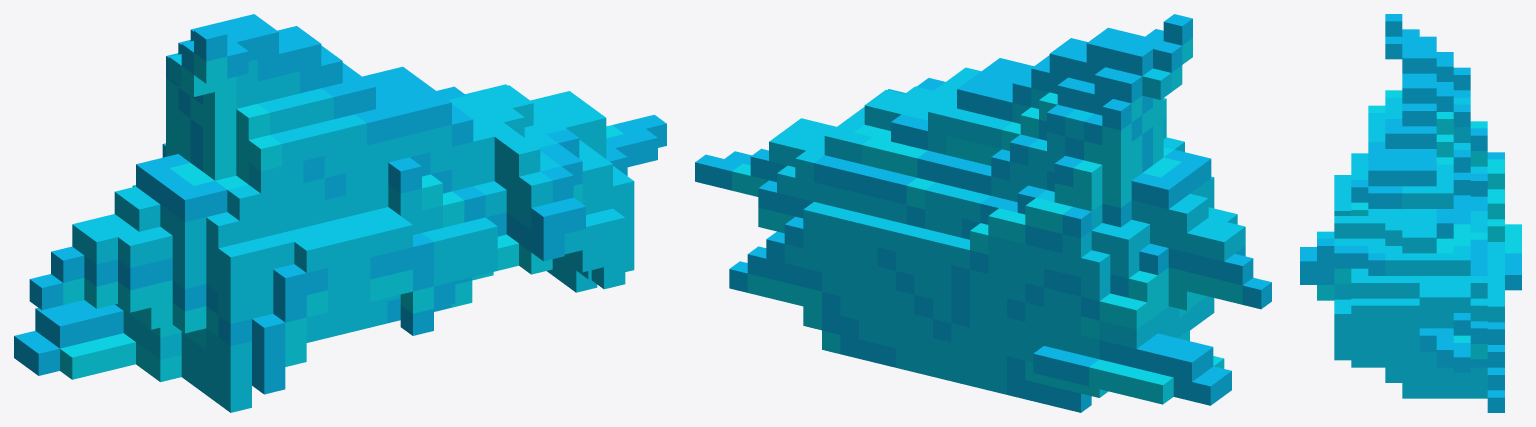
Rendered from accessories_head_gokussjblue.glb.
3 renders of one model, left to right at view 1: azimuth 30°, elevation 25°; view 2: azimuth 150°, elevation 25°; view 3: azimuth 270°, elevation 25°, orthographic. The views are drawn at different scales.
Parts seen in each view (by area): view 1: model_0; view 2: model_0; view 3: model_0.
Part boxes in pixels (box(x1,y1,x2,y2)): model_0: box(14, 14, 666, 412); model_0: box(695, 14, 1271, 412); model_0: box(1300, 14, 1521, 412).
Size of the model in its own units: 30 by 18 by 13.
